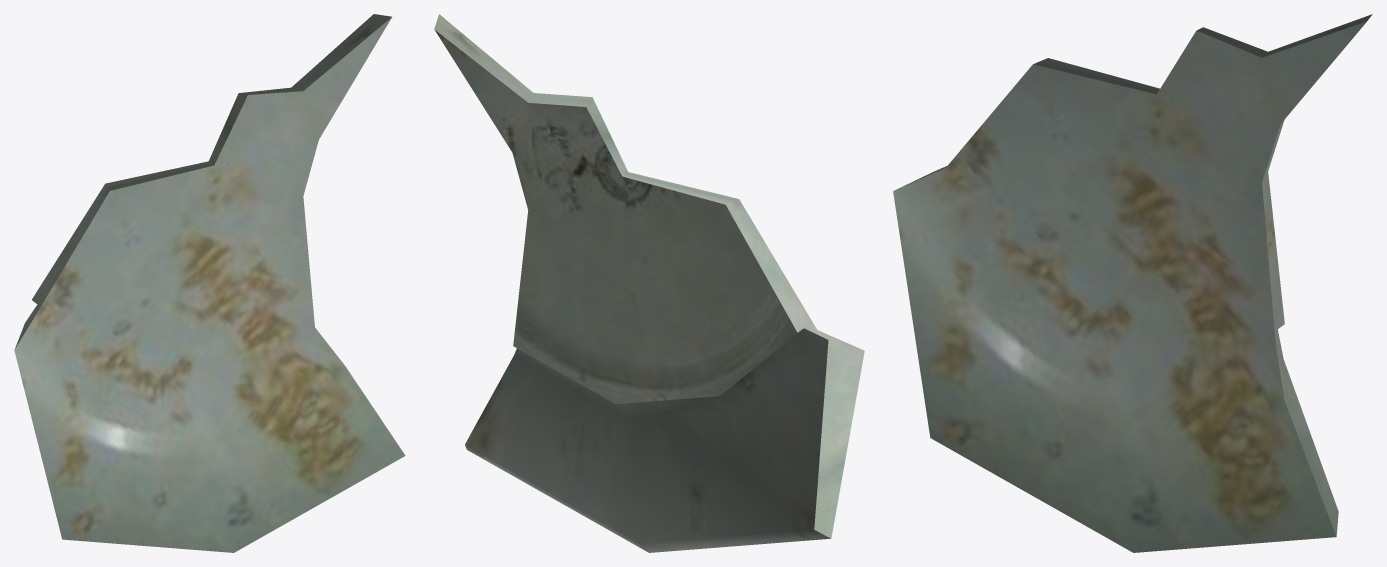
Rendered from prop_diningplate_brokenplain3.glb.
3 renders of one model, left to right at view 1: azimuth 30°, elevation 25°; view 2: azimuth 150°, elevation 25°; view 3: azimuth 330°, elevation 25°, orthographic. The views are drawn at different scales.
Size of the model in its own units: 7.29 by 8.55 by 1.01.
Materials: 1 (1 with a texture image).
